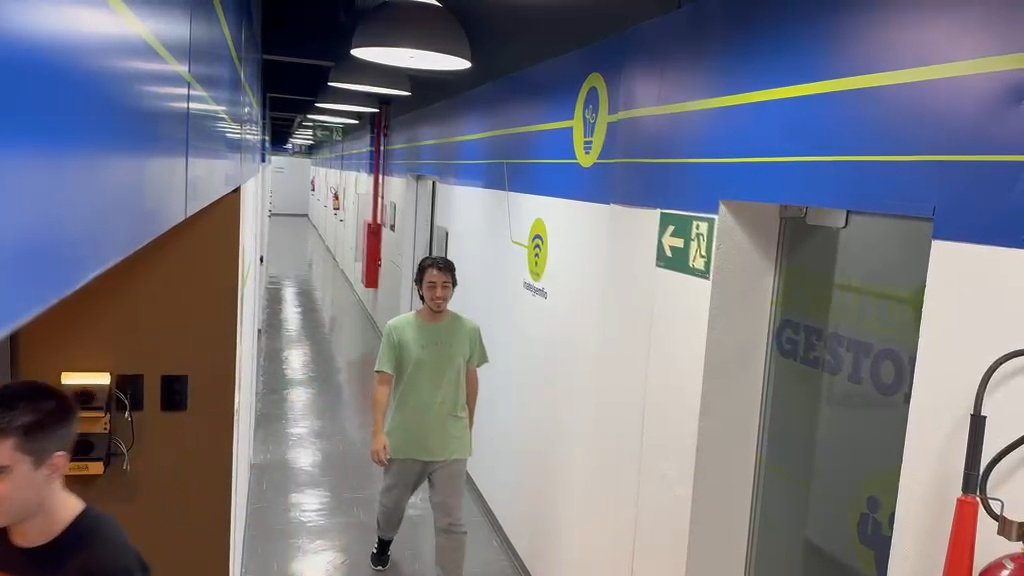person: (368, 255, 489, 573), (1, 380, 152, 572)
